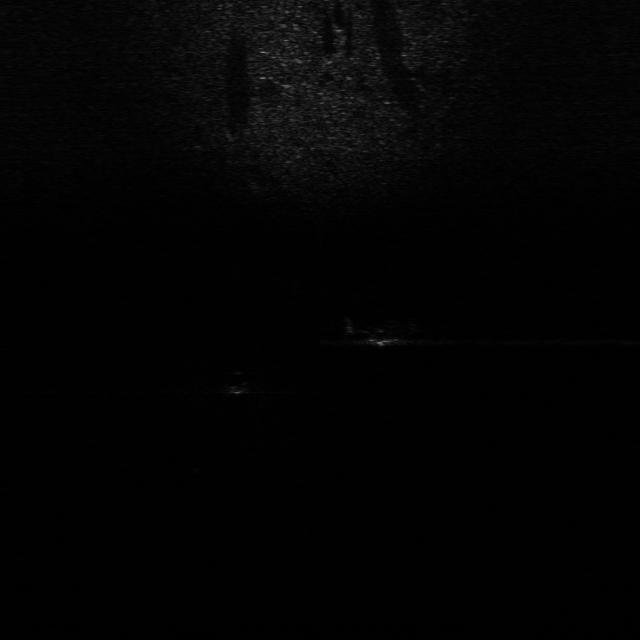ball: (218, 367, 272, 400)
human body: (333, 314, 427, 352)
